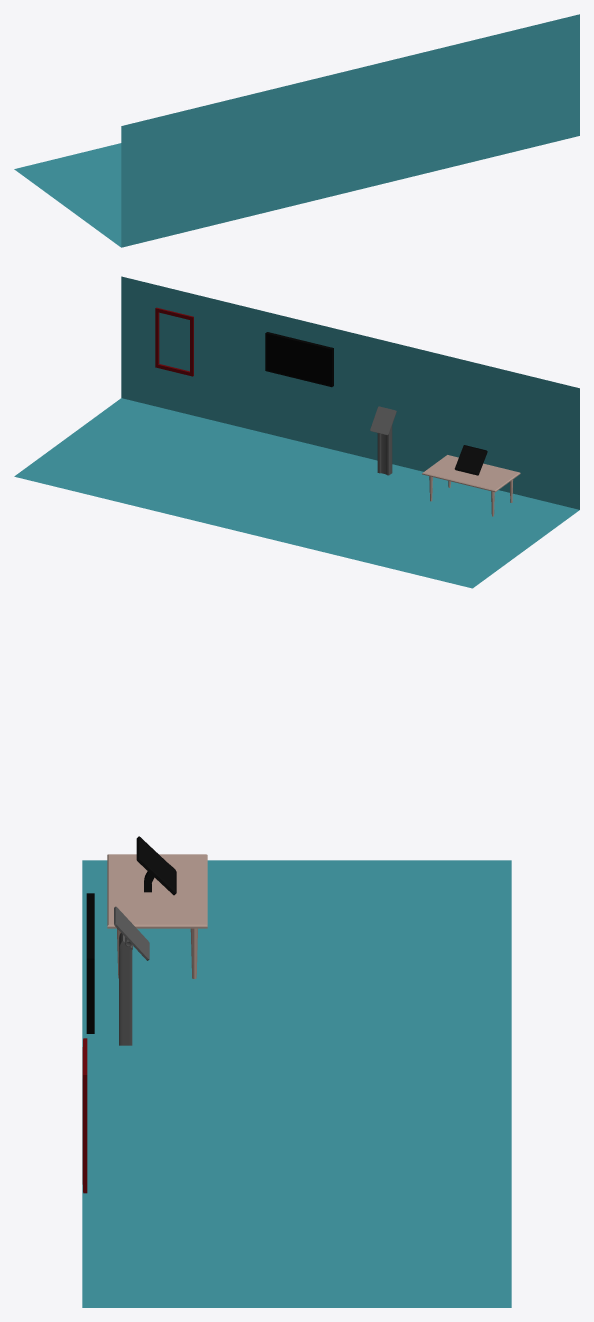
Rendered from confiancelabs_model.glb.
3 renders of one model, top to bottom at view 1: azimuth 30°, elevation 25°; view 2: azimuth 150°, elevation 25°; view 3: azimuth 270°, elevation 25°, orthographic. The views are drawn at different scales.
Visible parts, largest first — view 1: wall; view 2: wall, tv, table, kiosk, frame, kds; view 3: wall, table, kiosk, kds, tv, frame.
Boxes of the visible parts, x1,y1,x2,y2 form: wall: [14, 14, 579, 247]; wall: [14, 276, 579, 588]; tv: [265, 332, 333, 387]; table: [422, 455, 520, 516]; kiosk: [370, 406, 396, 475]; frame: [155, 307, 193, 376]; kds: [454, 445, 487, 475]; wall: [82, 860, 511, 1307]; table: [107, 854, 207, 978]; kiosk: [114, 906, 149, 1045]; kds: [136, 836, 176, 895]; tv: [86, 893, 94, 1033]; frame: [82, 1038, 87, 1193].
Bounding box in the file's own units: 38.92 × 9.95 × 15.77.
